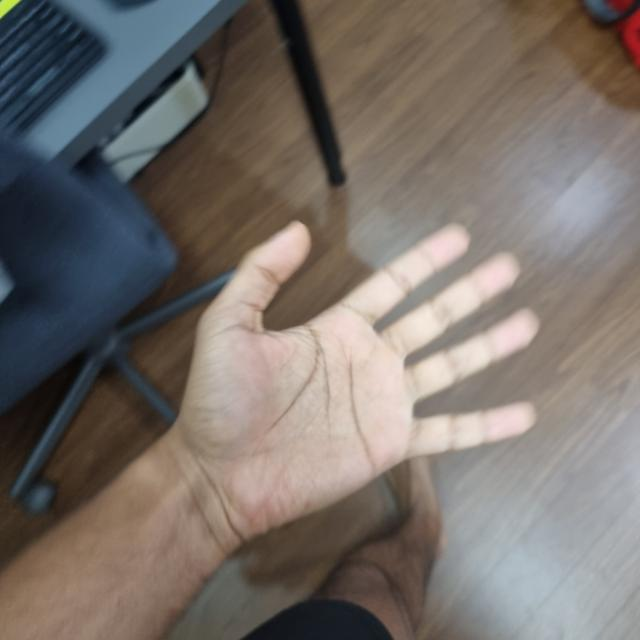Paper: (181, 232, 534, 533)
